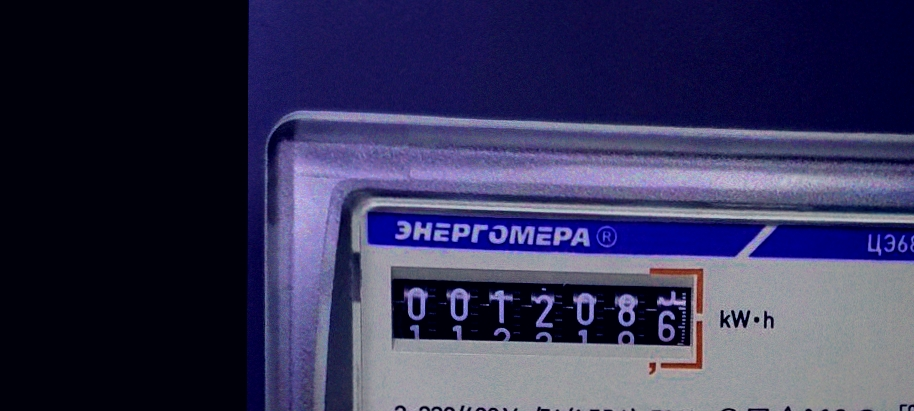0: (403, 282, 429, 322), (447, 285, 471, 322), (572, 289, 596, 325)
1: (489, 286, 510, 325)
2: (531, 291, 557, 329)
6: (653, 307, 677, 343)
8: (613, 290, 638, 328)
screen: (382, 258, 712, 374)
